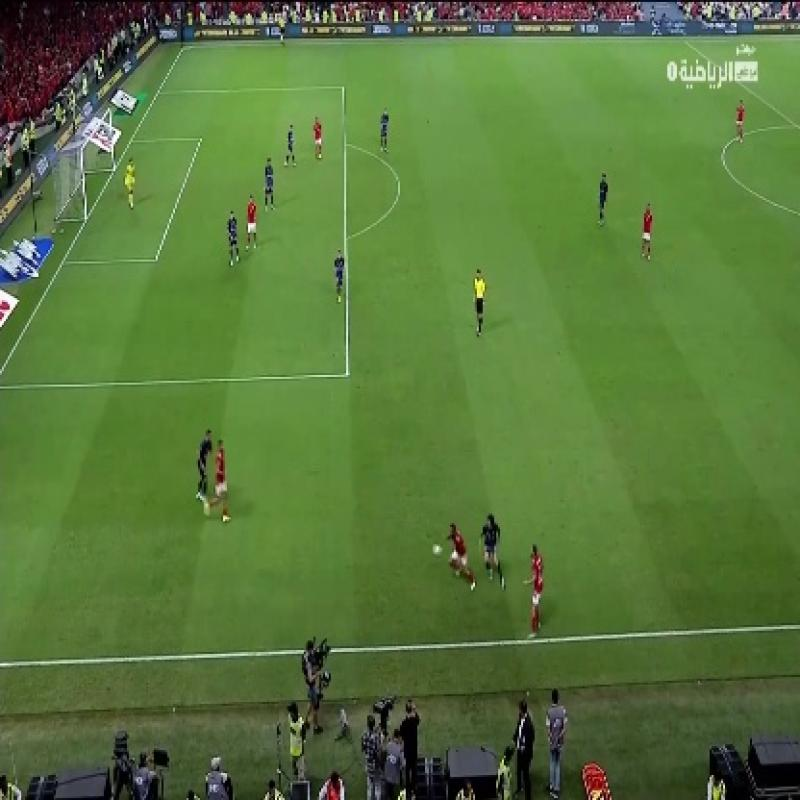1: (177, 44, 195, 54)
10: (340, 134, 350, 148)
11: (342, 230, 350, 246)
12: (338, 362, 352, 382)
13: (673, 34, 697, 49)
14: (793, 122, 800, 132)
2: (150, 83, 169, 100)
3: (122, 132, 140, 152)
4: (57, 252, 68, 266)
7: (194, 132, 204, 146)
8: (148, 248, 160, 266)
9: (338, 78, 346, 92)
c: (707, 152, 743, 182)
